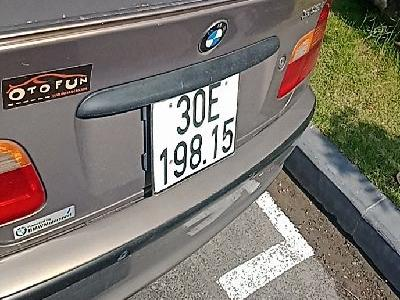car: (151, 69, 240, 196)
